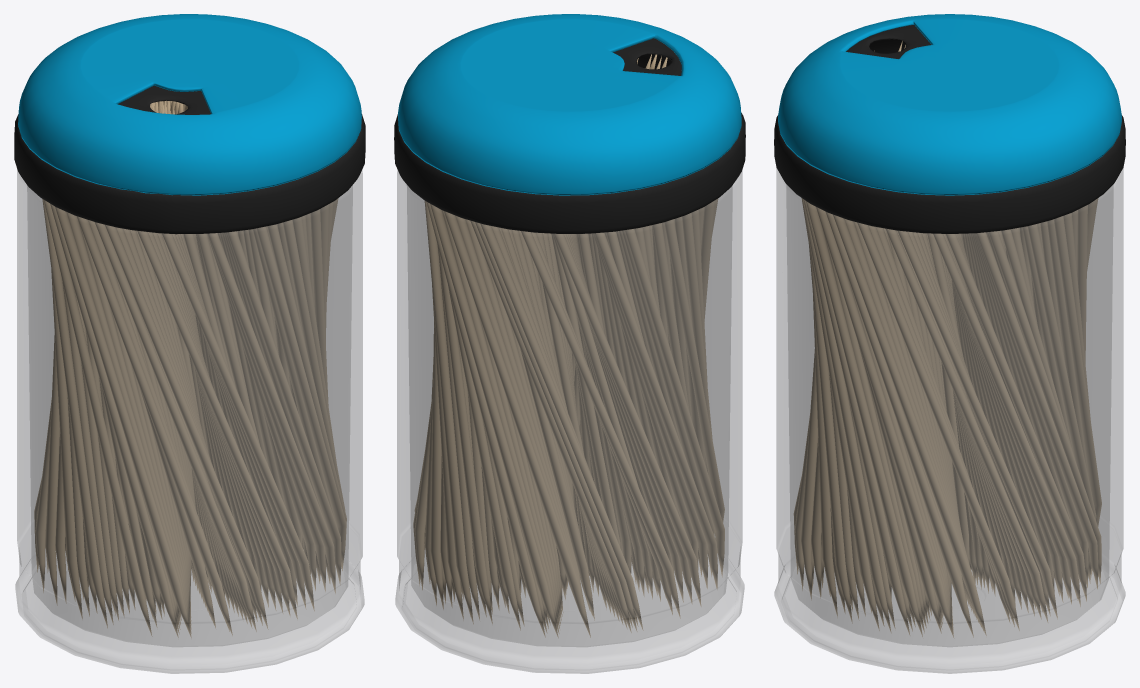
The model's file is ToothPickHolder.fbx.
3 views of the same model, side by side, from view 1: azimuth 30°, elevation 25°; view 2: azimuth 150°, elevation 25°; view 3: azimuth 270°, elevation 25° (orthographic).
Parts seen in each view (by area): view 1: clearHolder, blueLid, blackLidBase, pCylinder145, pCylinder56, pCylinder13, pCylinder515, pCylinder158, pCylinder67, pCylinder74, pCylinder487, pCylinder77 (+47 smaller); view 2: clearHolder, blueLid, blackLidBase, pCylinder311, pCylinder444, pCylinder298, pCylinder39, pCylinder120, pCylinder325, pCylinder54, pCylinder67, pCylinder388 (+56 smaller); view 3: clearHolder, blueLid, blackLidBase, pCylinder171, pCylinder79, pCylinder275, pCylinder44, pCylinder401, pCylinder411, pCylinder285, pCylinder452, pCylinder246 (+50 smaller).
Boxes of the visible parts, box(x1,y1,x2,y2) form: clearHolder: box(15, 169, 364, 673); blueLid: box(18, 14, 361, 195); blackLidBase: box(14, 85, 365, 234); pCylinder145: box(55, 207, 191, 637); pCylinder56: box(77, 216, 232, 635); pCylinder13: box(44, 200, 152, 636); pCylinder515: box(95, 222, 256, 631); pCylinder158: box(105, 225, 268, 629); pCylinder67: box(42, 199, 107, 627); pCylinder74: box(137, 231, 297, 618); pCylinder487: box(162, 233, 314, 610); pCylinder77: box(208, 233, 335, 593); clearHolder: box(395, 170, 744, 673); blueLid: box(398, 14, 741, 195); blackLidBase: box(394, 38, 745, 233); pCylinder311: box(430, 204, 558, 637); pCylinder444: box(444, 211, 590, 637); pCylinder298: box(424, 201, 473, 623); pCylinder39: box(521, 231, 680, 618); pCylinder120: box(554, 233, 701, 606); pCylinder325: box(480, 223, 643, 630); pCylinder54: box(594, 232, 717, 589); pCylinder67: box(624, 229, 724, 576); pCylinder388: box(426, 202, 545, 637); clearHolder: box(774, 168, 1125, 673); blueLid: box(778, 14, 1121, 195); blackLidBase: box(774, 25, 1125, 233); pCylinder171: box(806, 201, 922, 636); pCylinder79: box(816, 207, 953, 637); pCylinder275: box(833, 214, 986, 635); pCylinder44: box(857, 222, 1019, 630); pCylinder401: box(886, 228, 1047, 621); pCylinder411: box(826, 212, 973, 637); pCylinder285: box(898, 230, 1057, 618); pCylinder452: box(933, 233, 1080, 606); pCylinder246: box(946, 234, 1086, 601).
Size of what is drawn, in the model's own units: 1.02 by 1.72 by 1.02.
